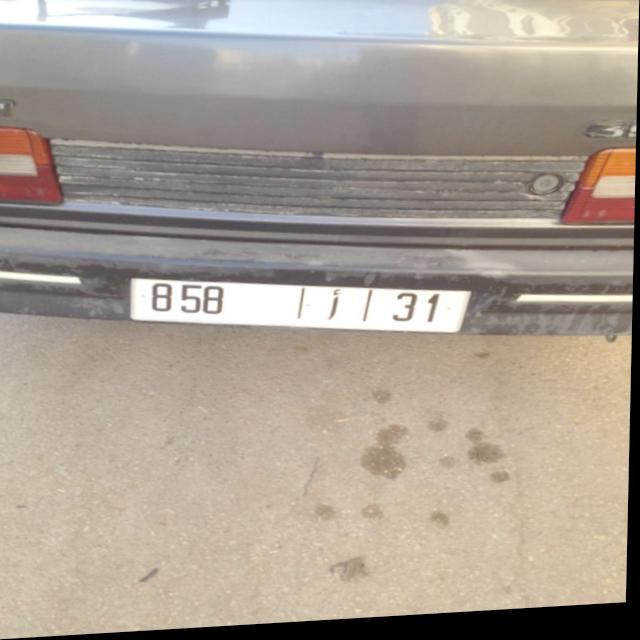License-Plate: (131, 280, 473, 338)
